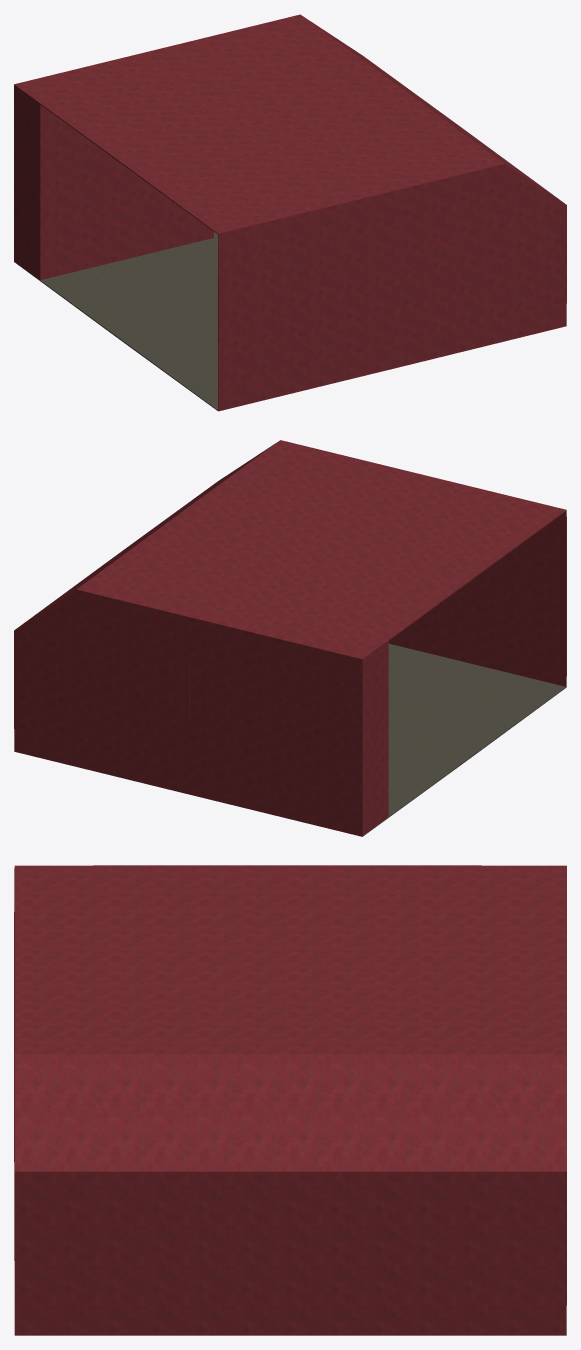
File: Room outer.fbx
3 renders of one model, top to bottom at view 1: azimuth 30°, elevation 25°; view 2: azimuth 150°, elevation 25°; view 3: azimuth 270°, elevation 25°, orthographic. The views are drawn at different scales.
Visible parts, largest first — view 1: Cube; view 2: Cube; view 3: Cube.
Boxes of the visible parts, left/top/right/bottom form: Cube: left=14, top=14, right=566, bottom=411; Cube: left=14, top=440, right=566, bottom=836; Cube: left=14, top=865, right=566, bottom=1335.
Bounding box in the file's own units: 1226 × 599 × 1245.
2 materials, 2 textured.
